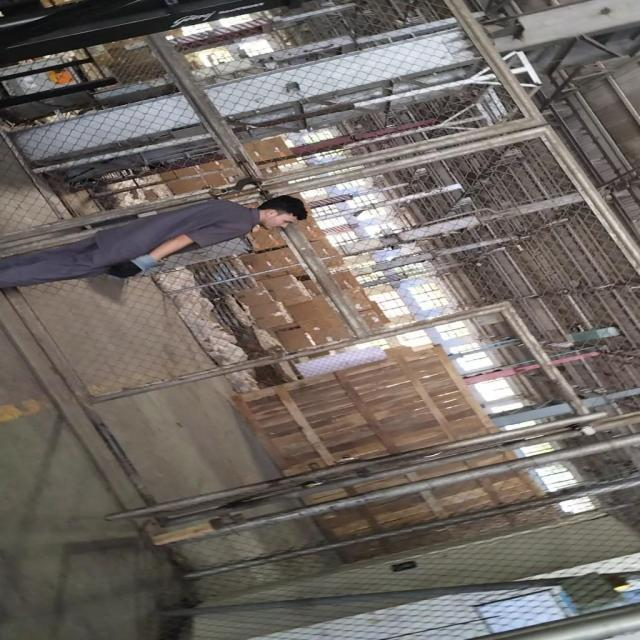Gloves-Detection: (104, 261, 163, 283)
